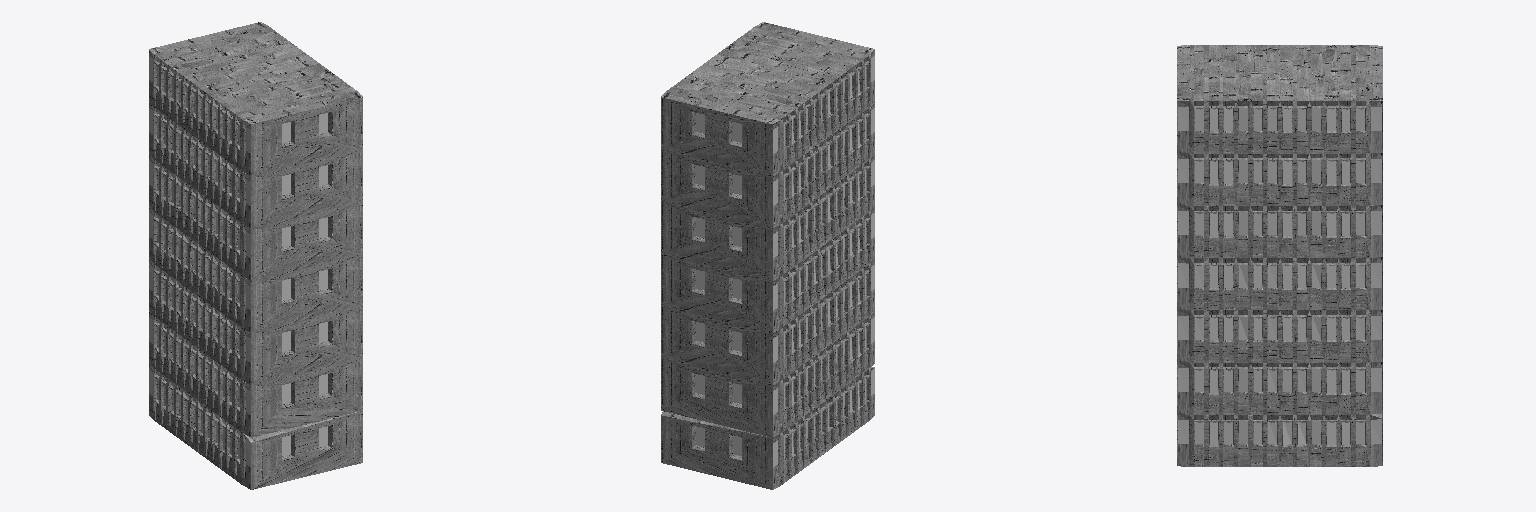
3 views of the same model, side by side, from view 1: azimuth 30°, elevation 25°; view 2: azimuth 150°, elevation 25°; view 3: azimuth 270°, elevation 25° (orthographic).
Parts seen in each view (by area): view 1: Cube; view 2: Cube; view 3: Cube.
Boxes of the visible parts, x1,y1,x2,y2 form: Cube: [149, 22, 362, 489]; Cube: [661, 22, 874, 489]; Cube: [1177, 45, 1382, 466].
Size of the model in its own units: 5.02 by 14.81 by 7.54.
Materials: 2 (1 with a texture image).